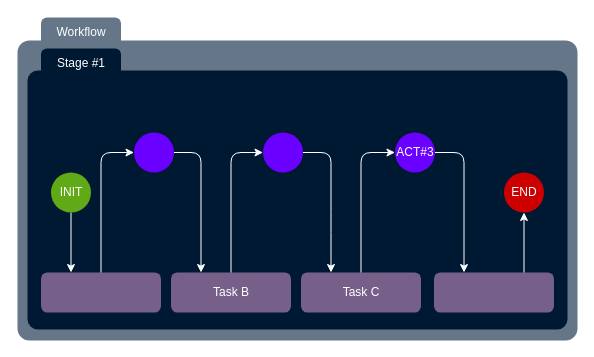
Some shapes in this 594 by 357 pixel diagram are drawn without their labels. The shapes that lost their labels are listed below. From the top down, each one's box as (x1, y1, x2, y2) in pixels, then its label:
(134, 132, 174, 172): ACT#1
(262, 132, 302, 172): ACT#2
(40, 272, 160, 312): Task A
(434, 272, 554, 312): Task D
